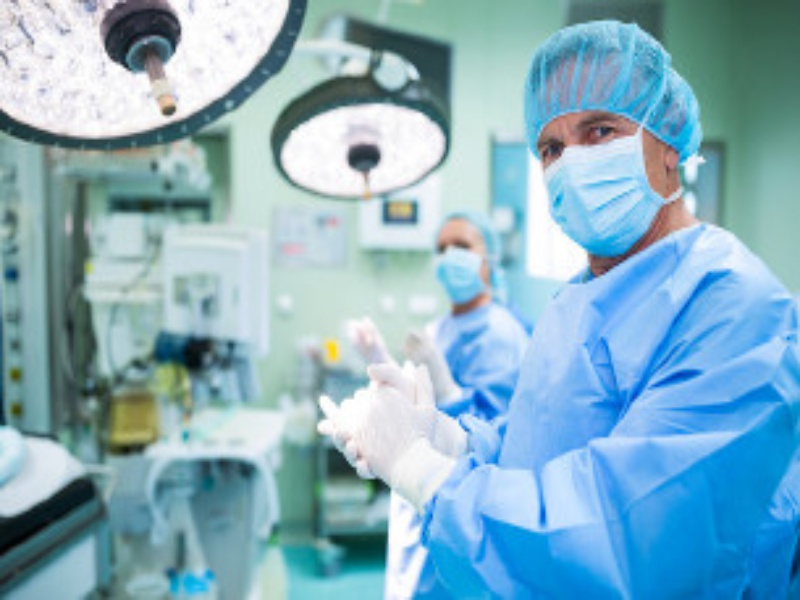mask: (522, 19, 709, 258), (427, 195, 505, 319)
